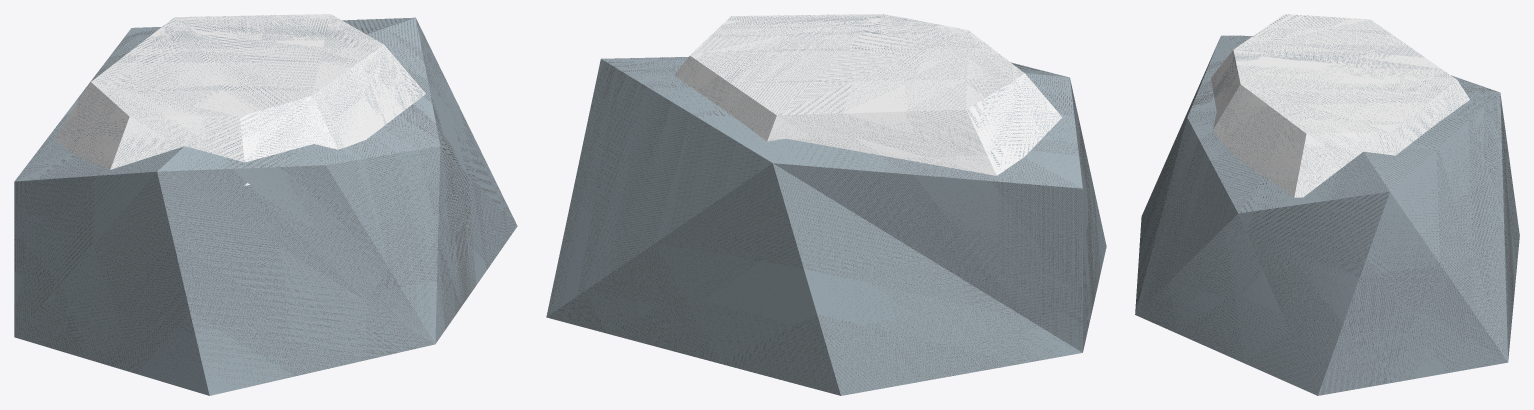
Rendered from Rock_Small_Snow_04.fbx.
3 renders of one model, left to right at view 1: azimuth 30°, elevation 25°; view 2: azimuth 150°, elevation 25°; view 3: azimuth 270°, elevation 25°, orthographic. The views are drawn at different scales.
Parts seen in each view (by area): view 1: Model; view 2: Model; view 3: Model.
Boxes of the visible parts, left/top/right/bottom form: Model: left=14, top=14, right=517, bottom=395; Model: left=546, top=14, right=1106, bottom=395; Model: left=1135, top=14, right=1519, bottom=395.
Size of the model in its own units: 190 by 103 by 142.
